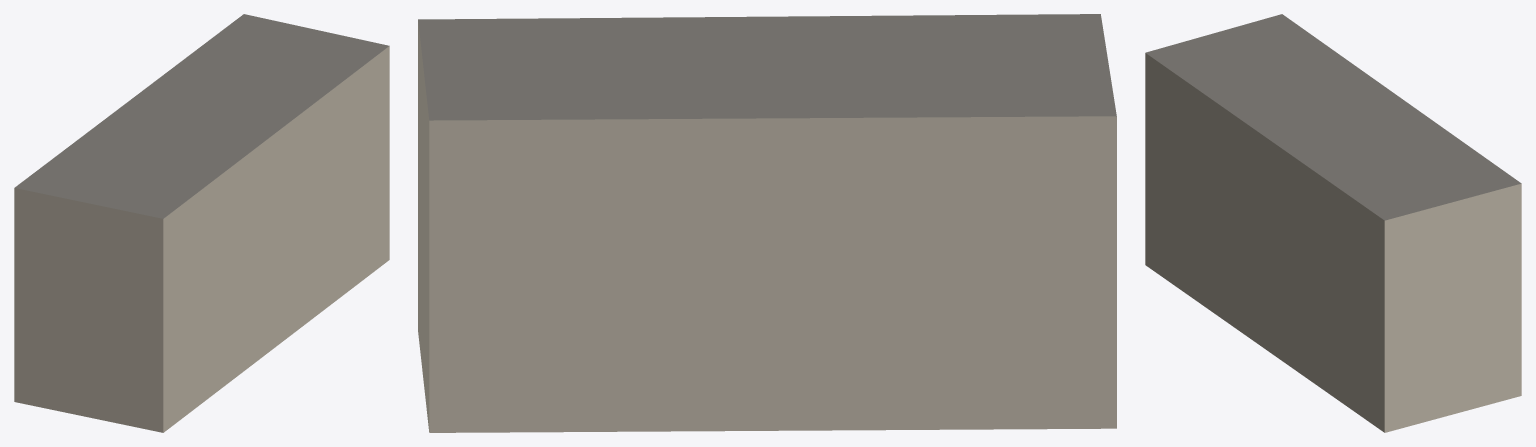
3 views of the same model, side by side, from view 1: azimuth 30°, elevation 25°; view 2: azimuth 150°, elevation 25°; view 3: azimuth 270°, elevation 25° (orthographic). The views are drawn at different scales.
Parts seen in each view (by area): view 1: HP-w505633373; view 2: HP-w505633373; view 3: HP-w505633373.
Part boxes in pixels (x1=…): HP-w505633373: x1=14, y1=14, x2=389, y2=432; HP-w505633373: x1=418, y1=14, x2=1116, y2=432; HP-w505633373: x1=1145, y1=14, x2=1521, y2=432.
Bounding box in the file's own units: 37.57 × 18 × 28.93.
